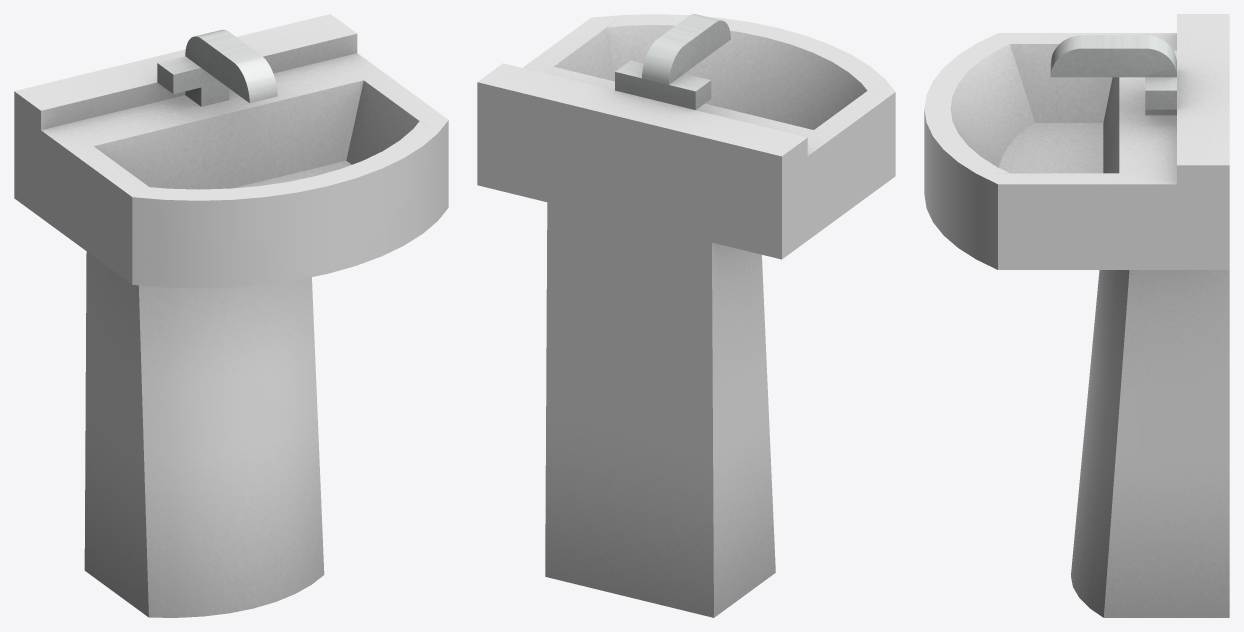
File: washbasin.glb
3 renders of one model, left to right at view 1: azimuth 30°, elevation 25°; view 2: azimuth 150°, elevation 25°; view 3: azimuth 270°, elevation 25°, orthographic. The views are drawn at different scales.
Parts seen in each view (by area): view 1: washbasin; view 2: washbasin; view 3: washbasin.
Part boxes in pixels (<box>): washbasin: <box>14,14,448,617</box>; washbasin: <box>477,14,895,617</box>; washbasin: <box>924,14,1229,617</box>.
Bounding box in the file's own units: 0.68 × 1.12 × 0.58.
Materials: 3 (3 with a texture image).
